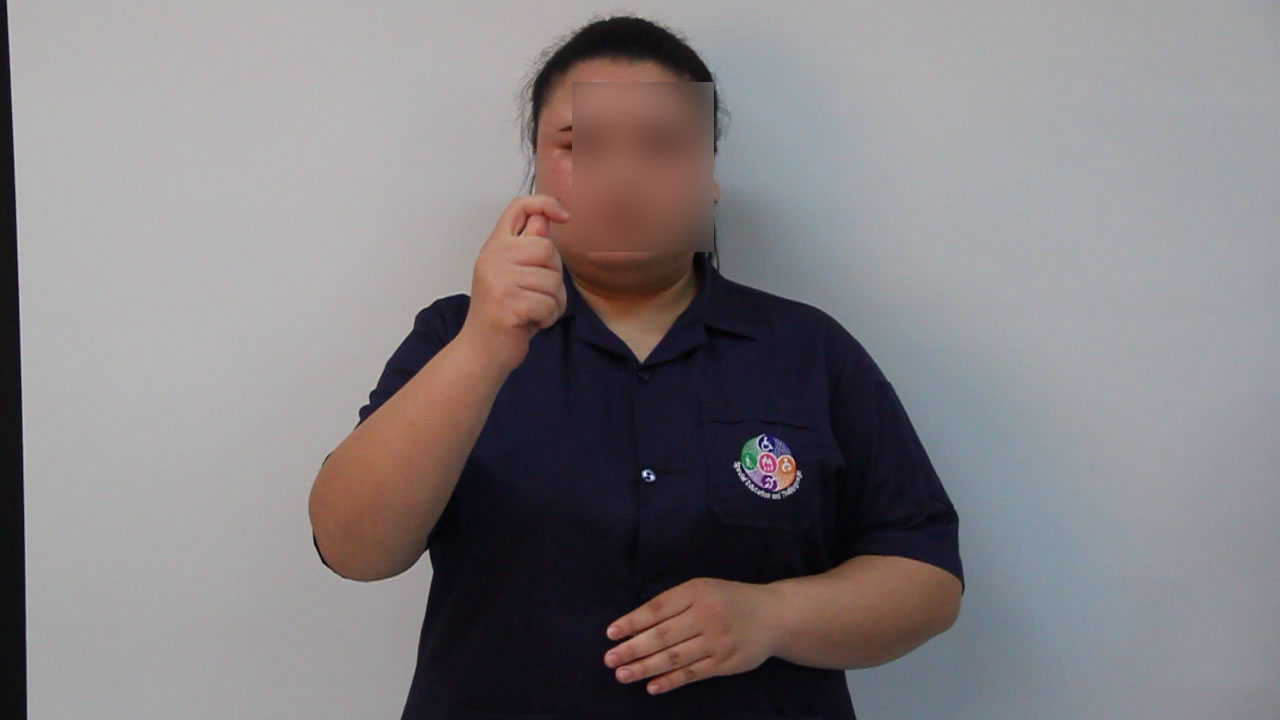or: (466, 187, 577, 361)
